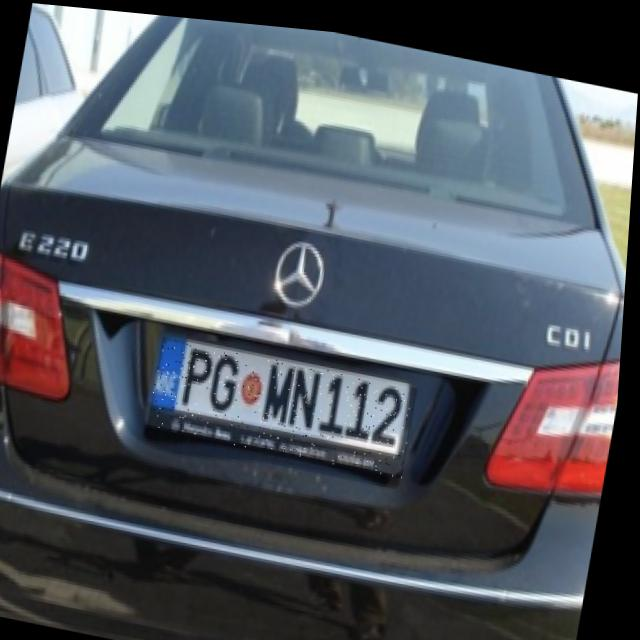license_plate: (151, 332, 423, 470)
